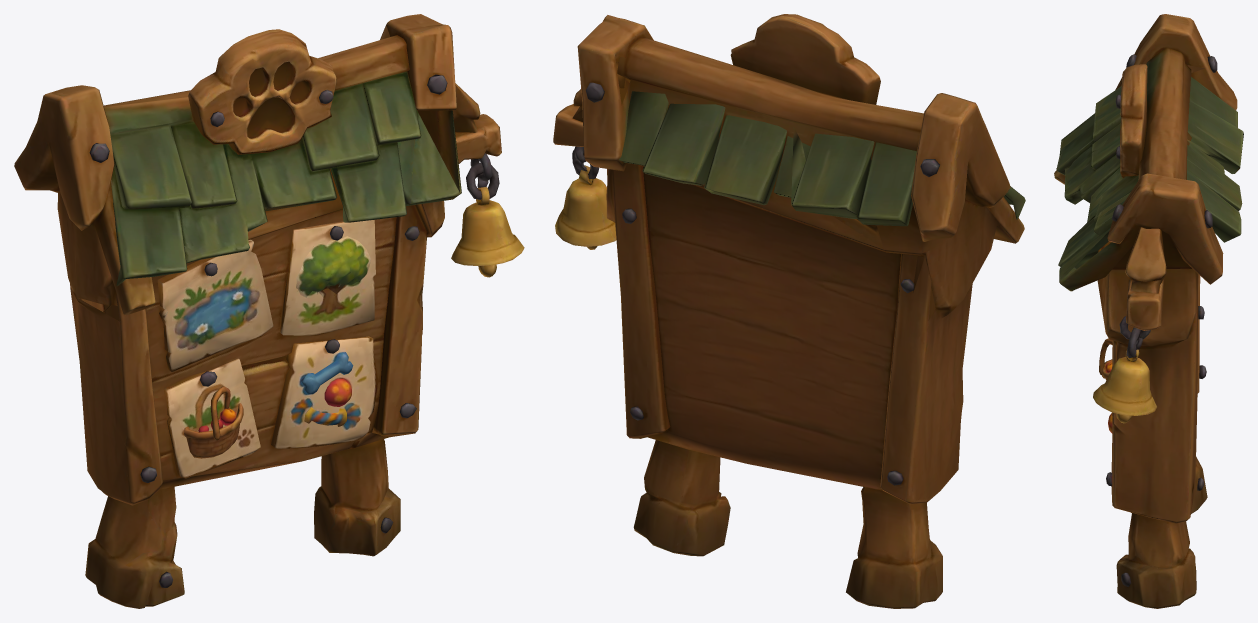
File: enclos_panneau.glb
3 views of the same model, side by side, from view 1: azimuth 30°, elevation 25°; view 2: azimuth 150°, elevation 25°; view 3: azimuth 270°, elevation 25° (orthographic). The views are drawn at different scales.
Parts seen in each view (by area): view 1: geometry_0; view 2: geometry_0; view 3: geometry_0.
Boxes of the visible parts, x1,y1,x2,y2 form: geometry_0: (14,14,524,608); geometry_0: (553,14,1025,608); geometry_0: (1054,14,1243,608).
Size of the model in its own units: 0.8256 by 0.9526 by 0.3394.
Materials: 1 (1 with a texture image).
